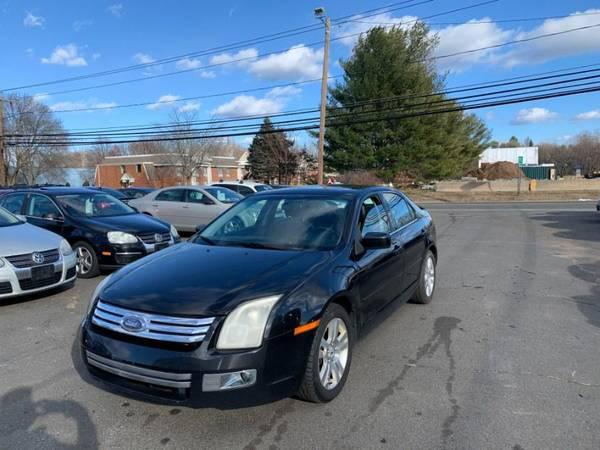Front_Bumper: (79, 319, 319, 403)
Front_Fender: (265, 246, 361, 339)
Front_Left_Door: (358, 233, 403, 332)
Front_Left_Window: (354, 190, 395, 255)
Front_Windshield: (188, 191, 352, 249)
Grille: (92, 291, 227, 349)
Hood: (103, 239, 338, 314)
Left_Headlight: (212, 295, 286, 356)
Rear_Fender: (413, 209, 437, 249)
Rear_Left_Door: (395, 216, 431, 301)
Rear_Left_Window: (380, 191, 417, 227)
Roof: (250, 180, 429, 246)
Wheel: (304, 306, 355, 404), (418, 250, 436, 301)
